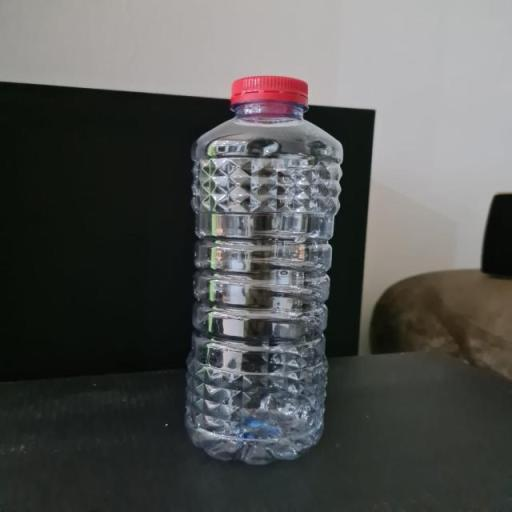plastic: (183, 61, 351, 467)
